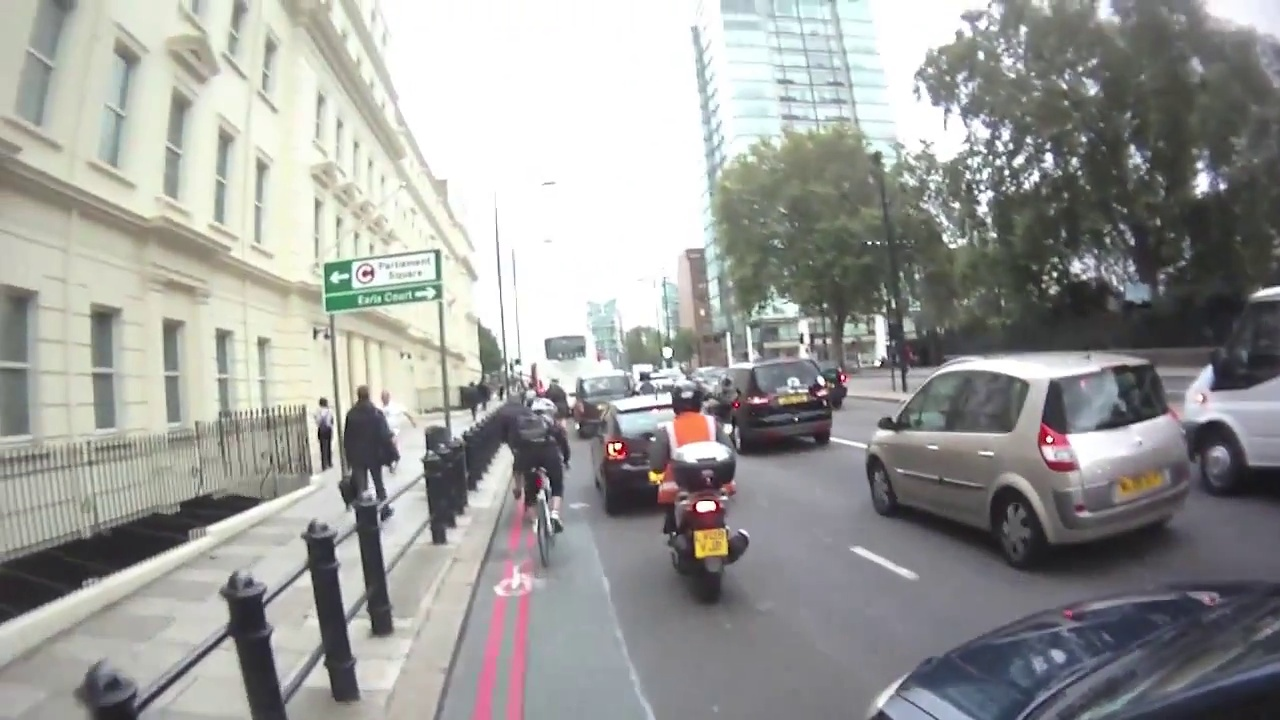cyclist_back: (654, 387, 757, 606), (506, 400, 570, 564)
